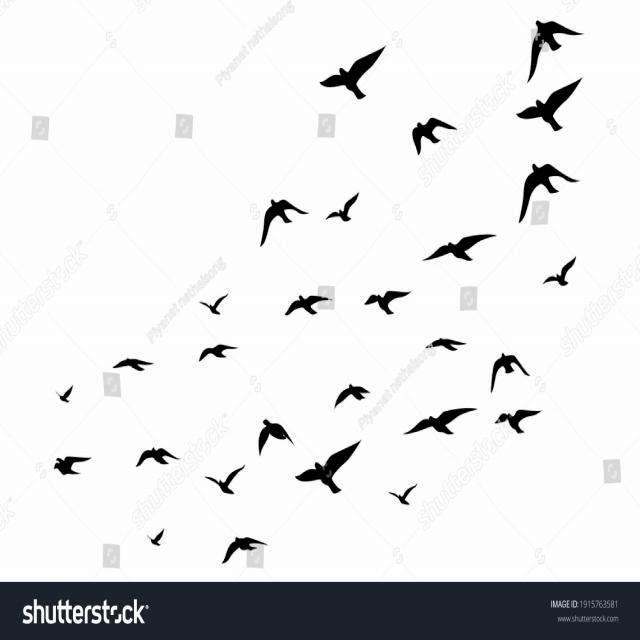bird: (517, 146, 579, 222), (290, 438, 370, 494), (521, 5, 579, 74), (318, 44, 394, 96), (510, 82, 580, 137), (493, 396, 548, 451), (424, 224, 496, 266), (251, 195, 311, 243), (317, 361, 375, 406), (384, 473, 427, 531), (488, 339, 532, 394), (400, 406, 482, 434), (406, 110, 460, 152), (220, 528, 272, 566), (135, 437, 183, 477), (363, 285, 411, 319), (321, 189, 363, 226), (205, 462, 248, 498), (47, 442, 89, 478), (284, 291, 329, 324), (112, 352, 164, 380), (252, 414, 294, 448), (423, 330, 464, 364), (544, 253, 578, 292), (190, 292, 233, 316), (149, 523, 183, 552), (50, 378, 81, 408), (192, 342, 236, 361)
